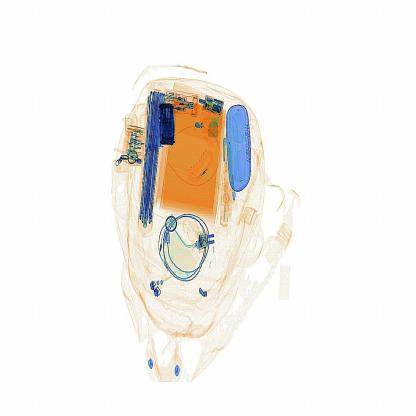scissors: (156, 96, 184, 155)
